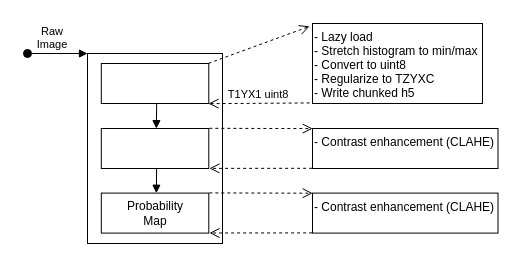
The diagram is 516 pixels wide and 262 high, and some of its shapes have lost their labels. Here are the shapes that lost their labels. From the top down, the centre of each, then its label:
point (154, 83): Format Regulartization
point (154, 148): Preprocessing
